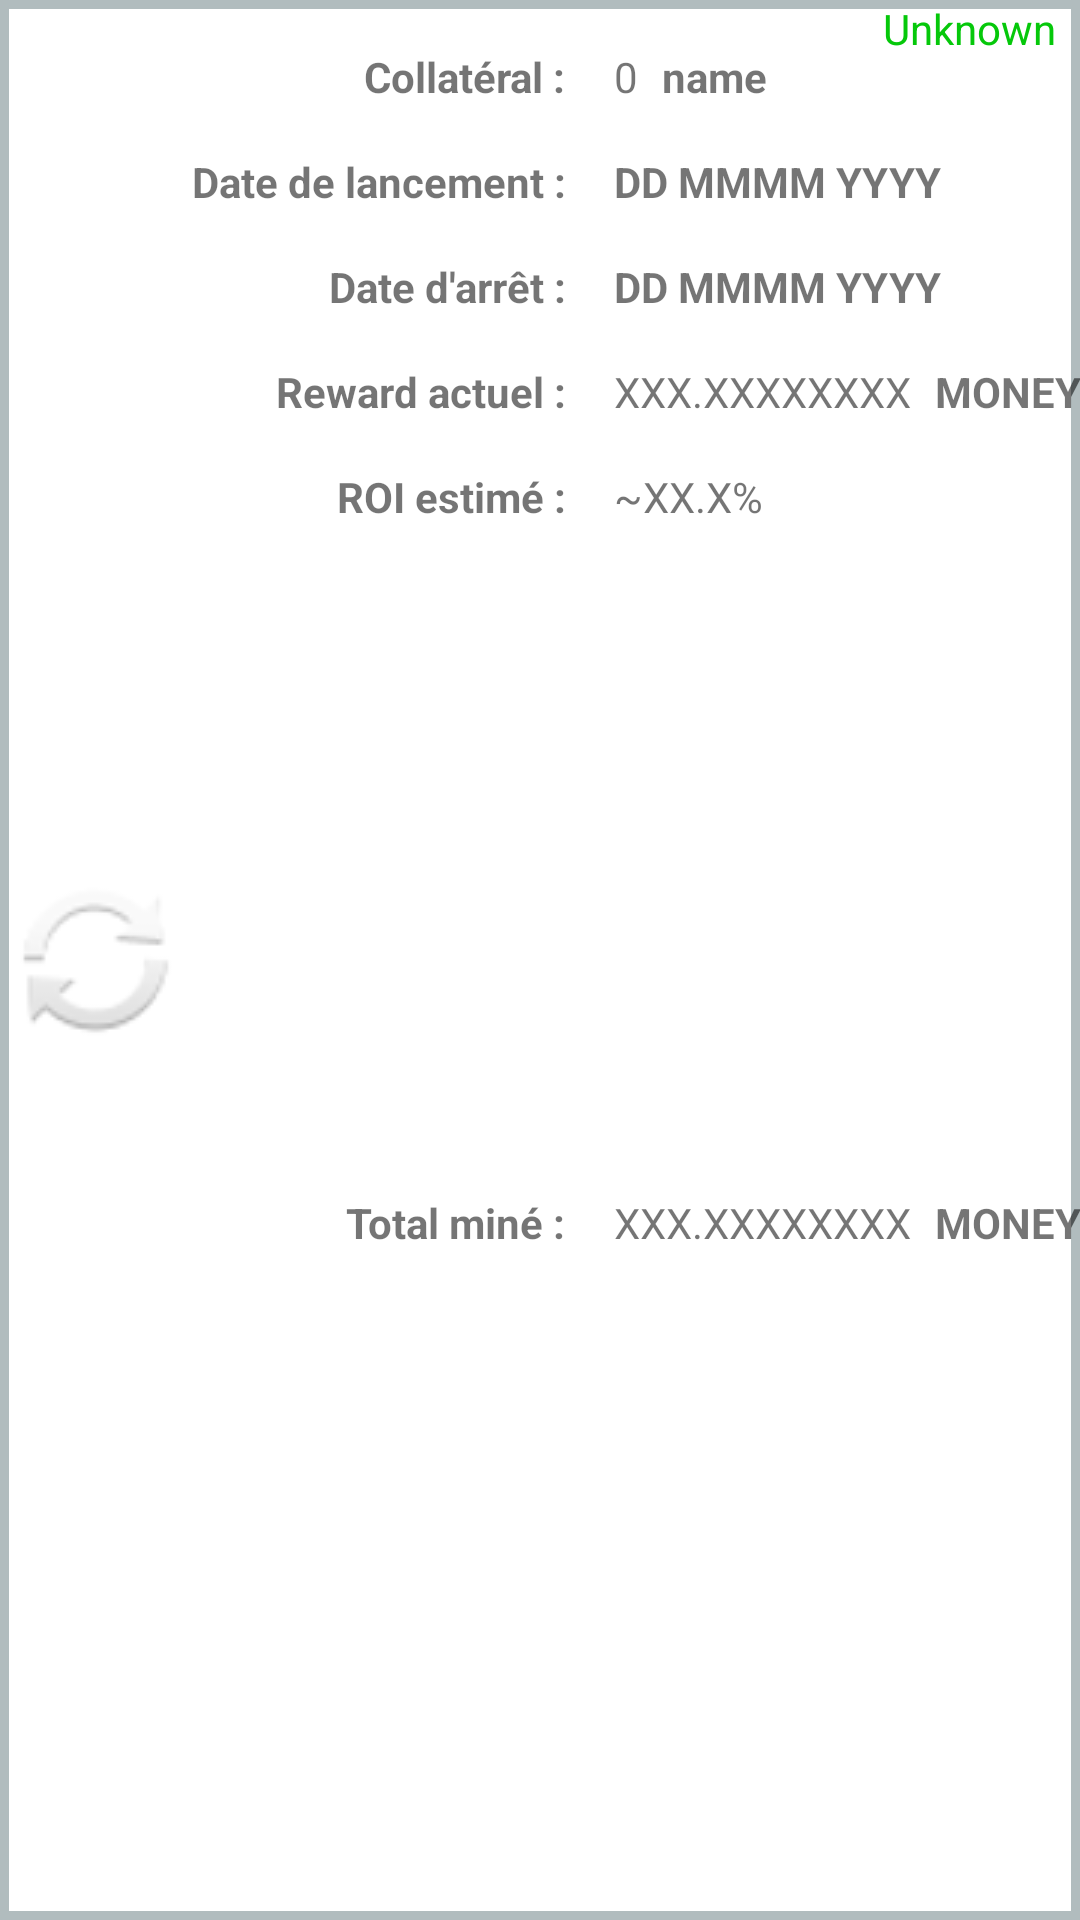

Icons on this 1080 × 1920 Android screen, each with the point to tap as (x,y):
popup sync: (95,968)
